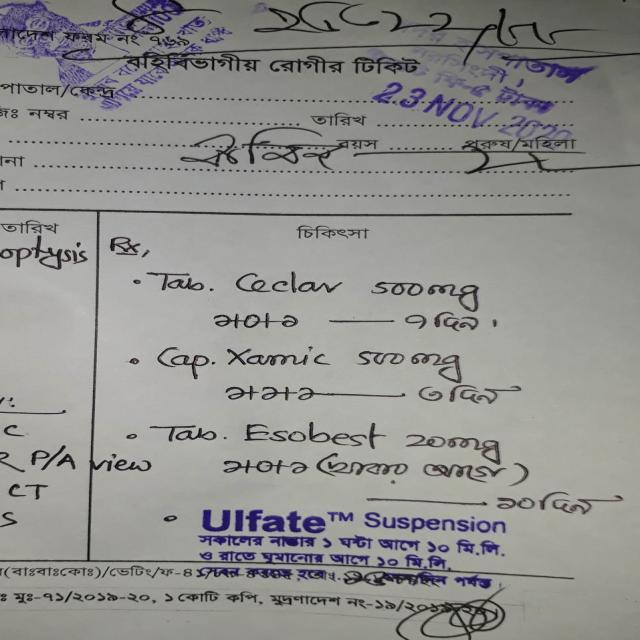Ceclav: (228, 268, 350, 302)
Esobest: (235, 421, 388, 452)
Xamic: (217, 341, 343, 373)
